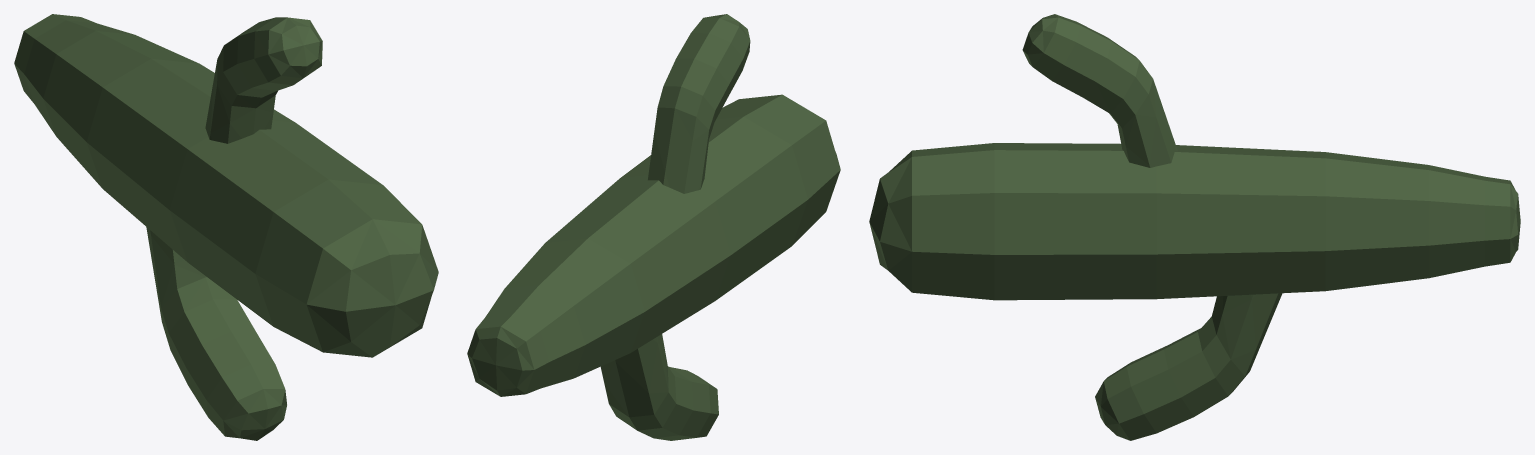
The model's file is cactus-3.obj.
The picture shows the model from 3 angles, left to right: view 1: azimuth 30°, elevation 25°; view 2: azimuth 150°, elevation 25°; view 3: azimuth 270°, elevation 25°; orthographic projection. The views are drawn at different scales.
Parts seen in each view (by area): view 1: cactus-3; view 2: cactus-3; view 3: cactus-3.
Boxes of the visible parts, <box> form: cactus-3: <box>14,14,438,440</box>; cactus-3: <box>467,14,840,440</box>; cactus-3: <box>869,14,1520,440</box>.
Bounding box in the file's own units: 11.63 × 34.1 × 48.
